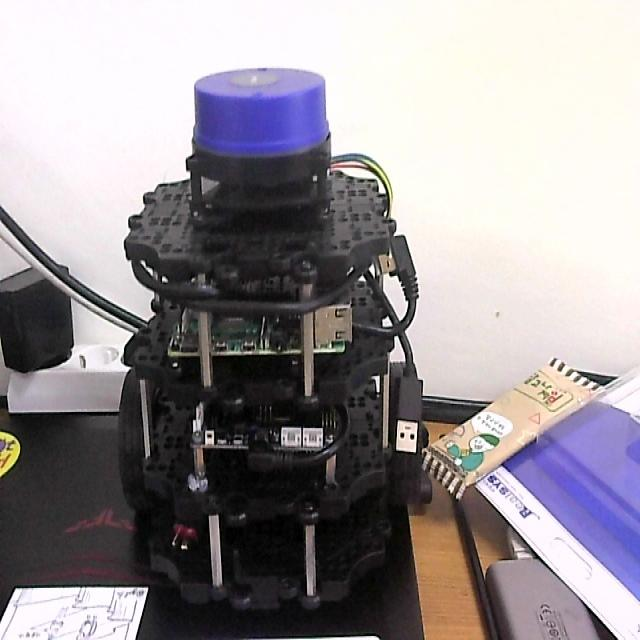turtle: (120, 66, 421, 620)
